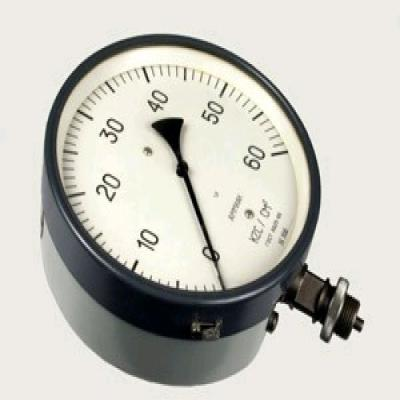technique: (41, 34, 365, 388)
